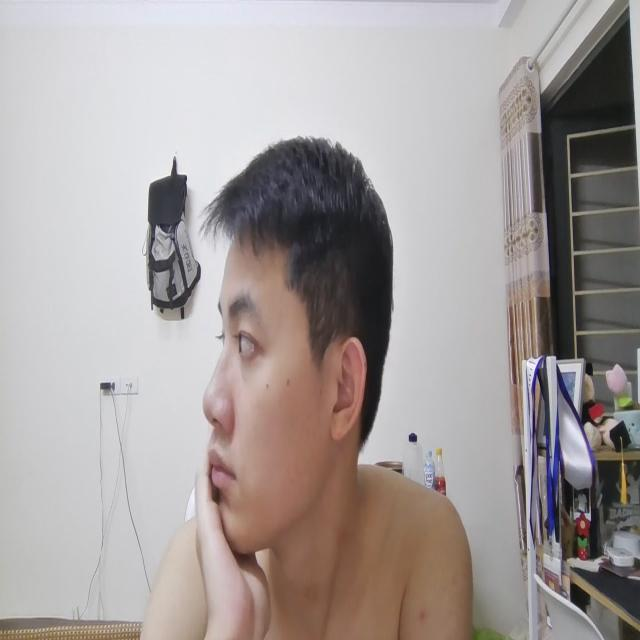student: (201, 142, 399, 614)
